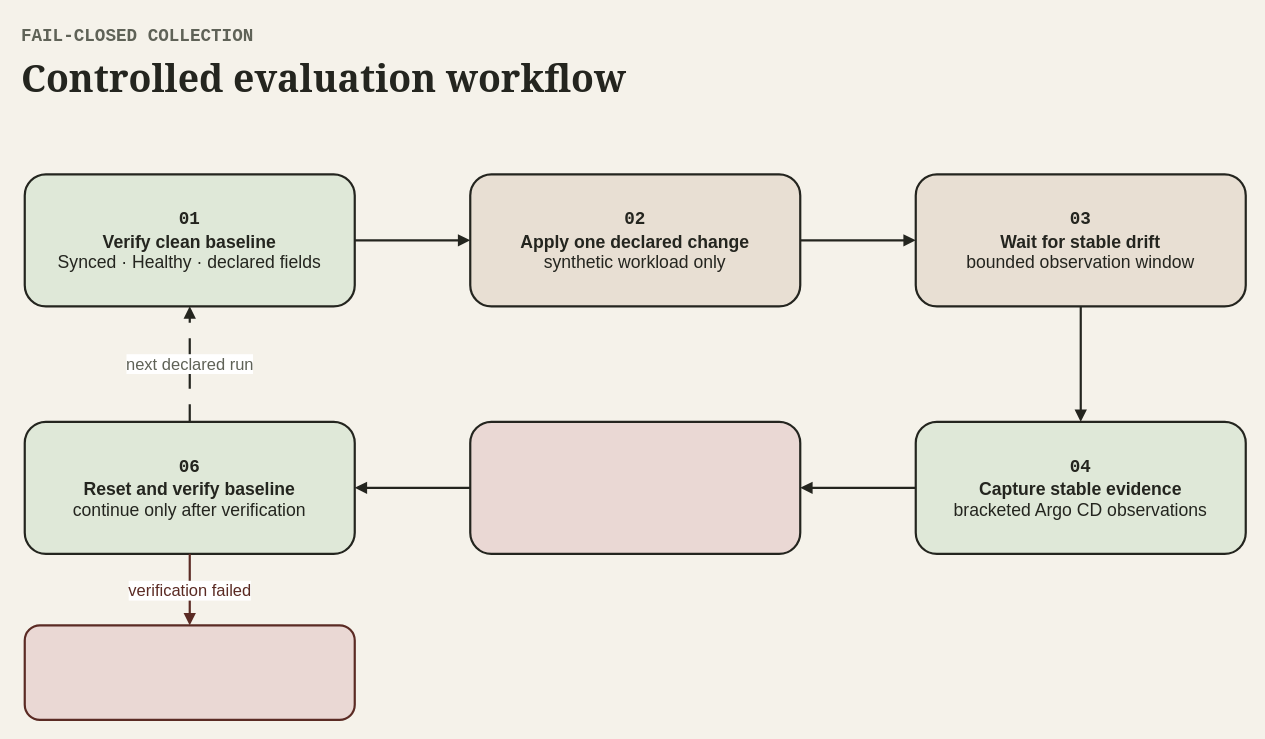
Some shapes in this 1265 by 739 pixel diagram are drawn without their labels. Each missing label, with the centre of its shape:
05 Evaluate and record finding · decision · checksums: the point at 635,487
Stop collection if reset verification fails: the point at 189,672
